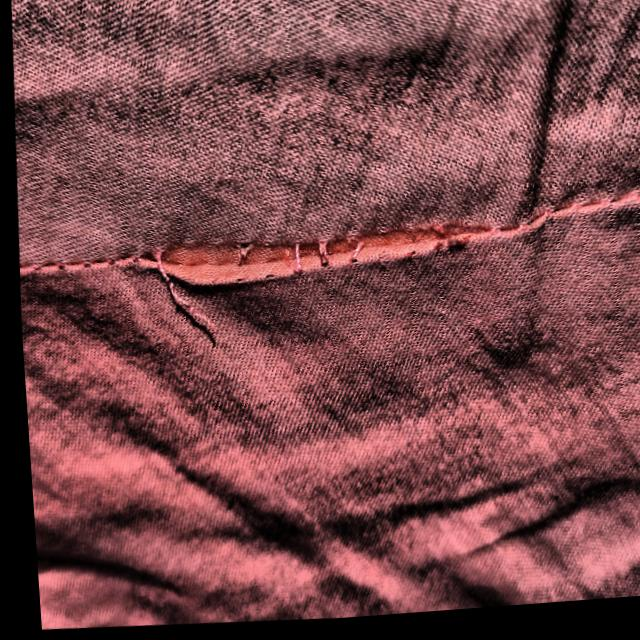seam: (68, 171, 537, 352)
